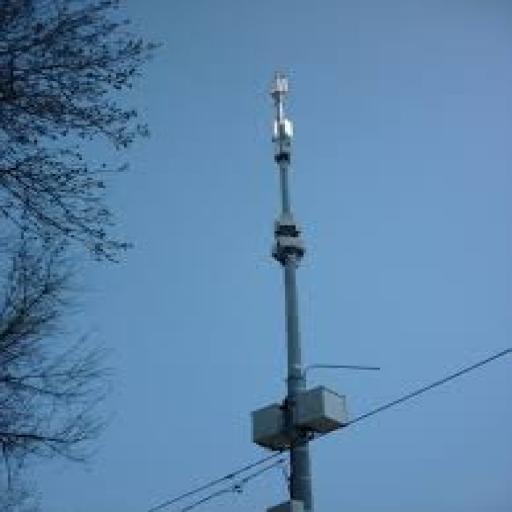odn_pole: (251, 71, 380, 510)
